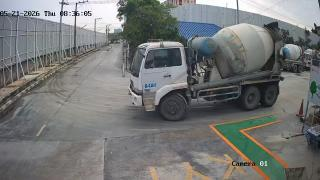cement_mixer_truck: (127, 21, 284, 120), (282, 42, 306, 74), (304, 51, 313, 68), (306, 48, 320, 58)
